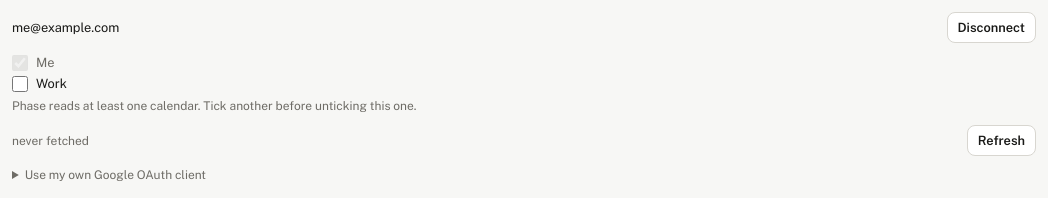
Test: CalendarSettings › re-enables it as soon as a second calendar is chosen
Click the checkbox labelled "Work": [20, 84] box [12,76,28,92]
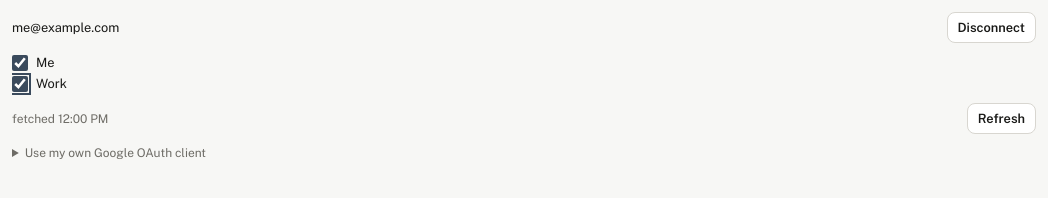
Result: the checkbox labelled "Me" is enabled at [12,55,28,71]
Result: the text "at least one calendar" is gone
